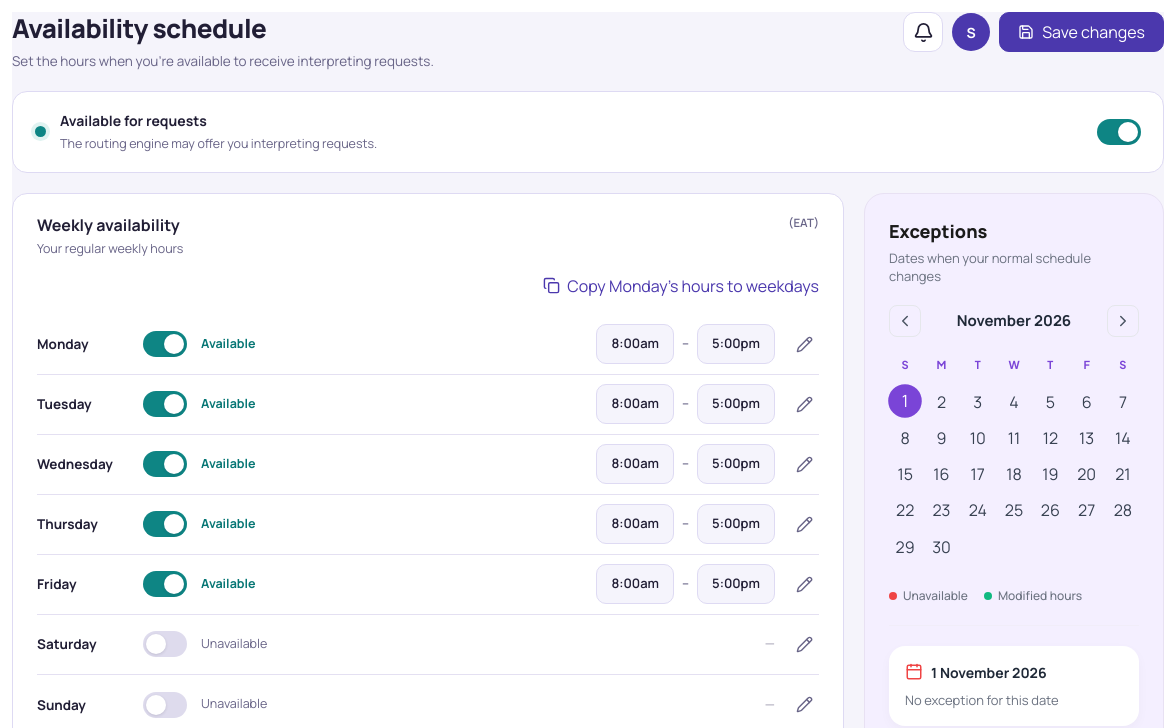
Test case: AvailabilityPage partial save › shows the normal success message when every save works
Check: the button named "24 November 2026" is shown, box [962,494,994,527]
Click the button "Save changes".
click(1082, 32)  # box [999,12,1164,52]
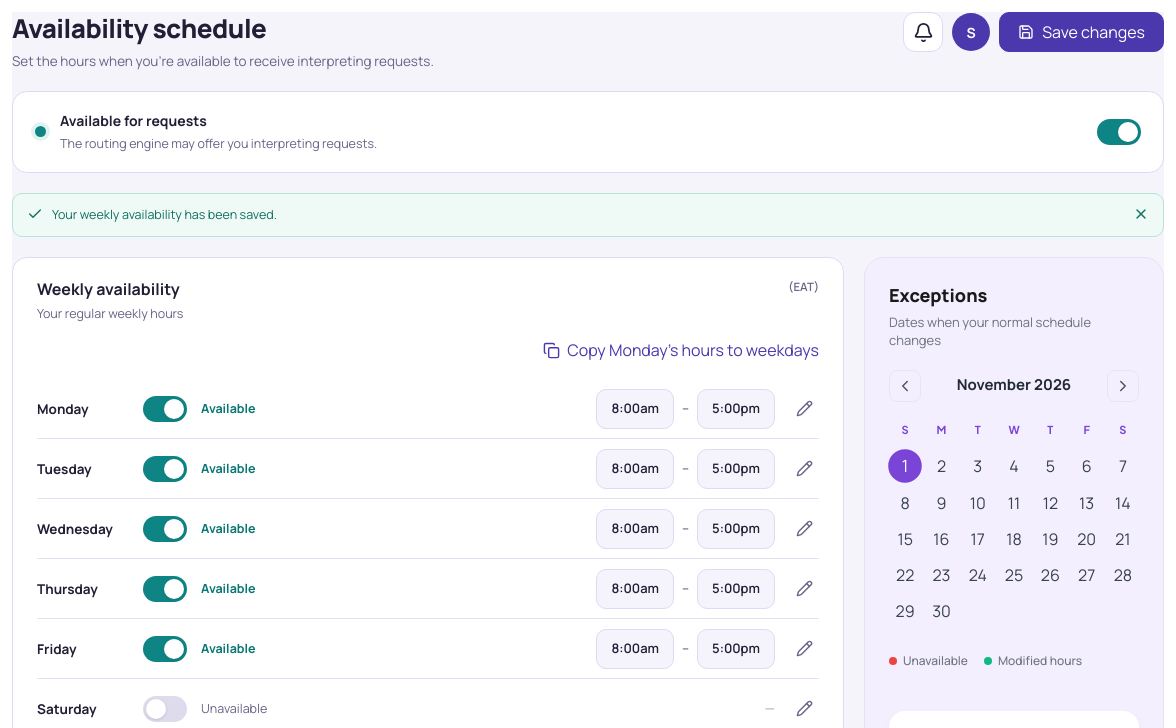
Check: the message reads "Your weekly availability has been saved.", box [52,206,277,222]
